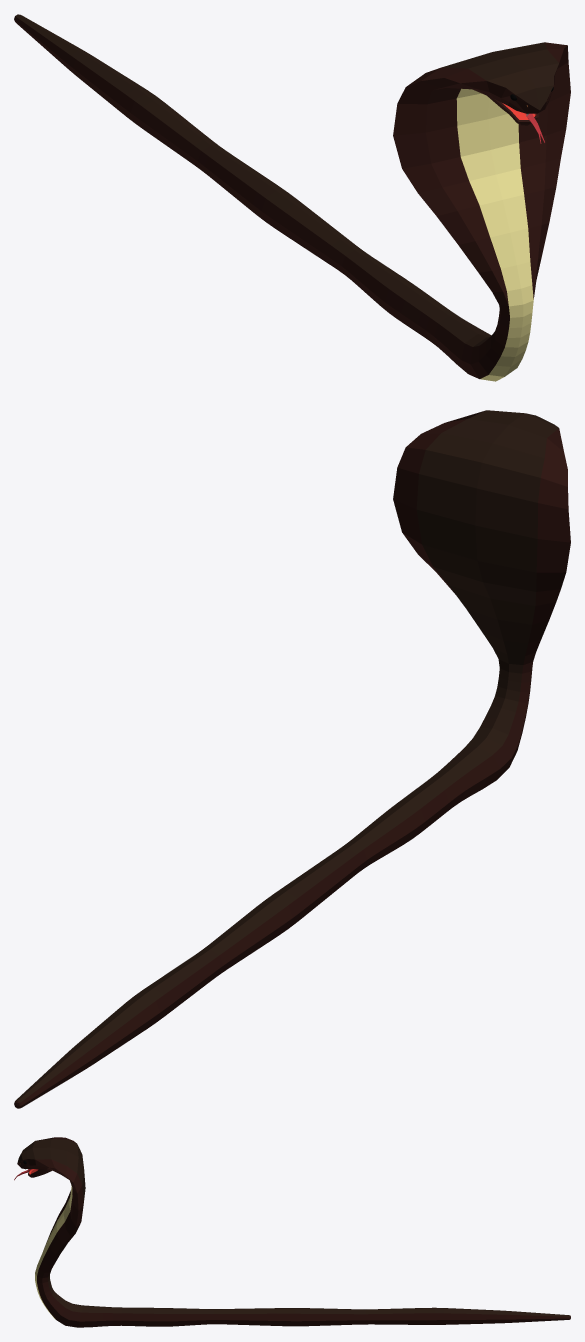
The model's file is snake2.fbx.
3 renders of one model, top to bottom at view 1: azimuth 30°, elevation 25°; view 2: azimuth 150°, elevation 25°; view 3: azimuth 270°, elevation 25°, orthographic. The views are drawn at different scales.
Parts seen in each view (by area): view 1: Vert.001; view 2: Vert.001; view 3: Vert.001.
Part boxes in pixels (x1,y1,x2,y2): Vert.001: (14,14,570,381); Vert.001: (14,410,570,1108); Vert.001: (14,1137,570,1327).
Size of the model in its own units: 324 by 588 by 1658.
